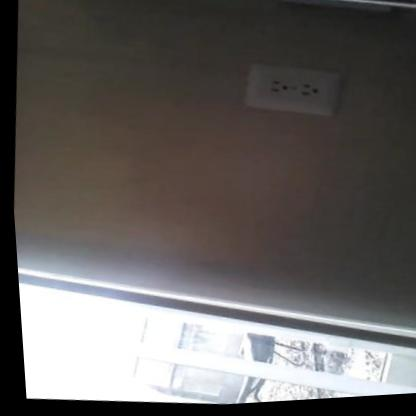OUTLET: (242, 59, 340, 121)
